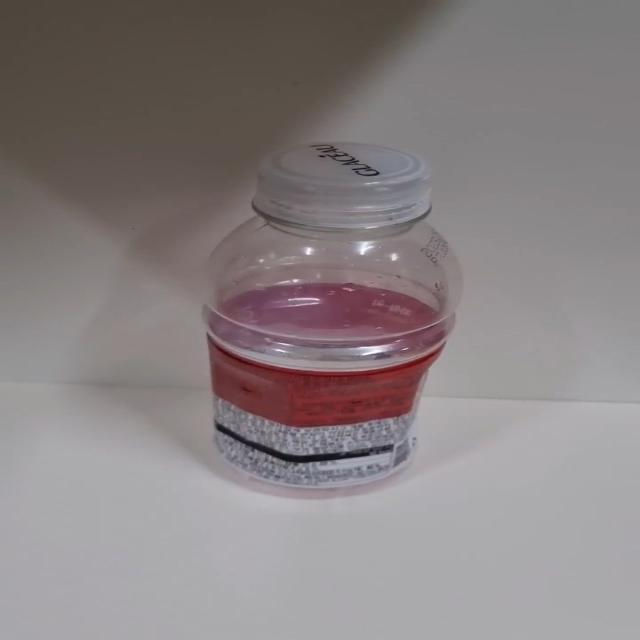Plastic: (203, 142, 466, 500)
